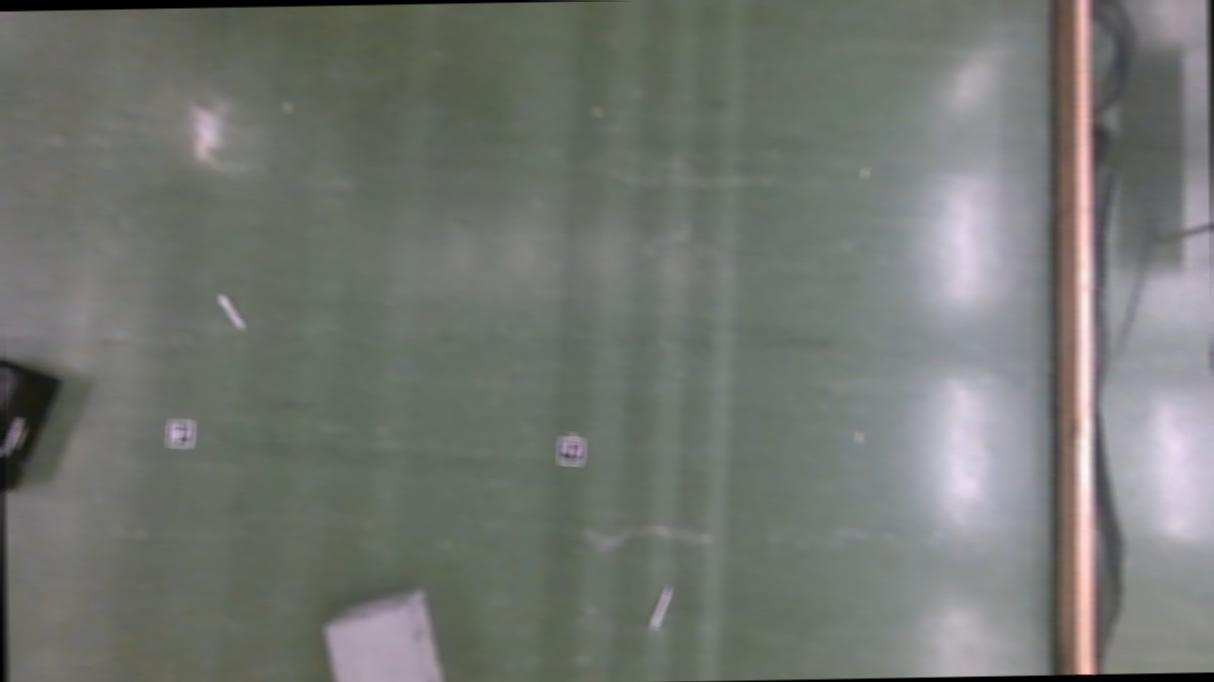probes: (218, 291, 242, 329), (651, 584, 671, 626)
rako: (322, 585, 447, 682), (0, 353, 62, 491)
